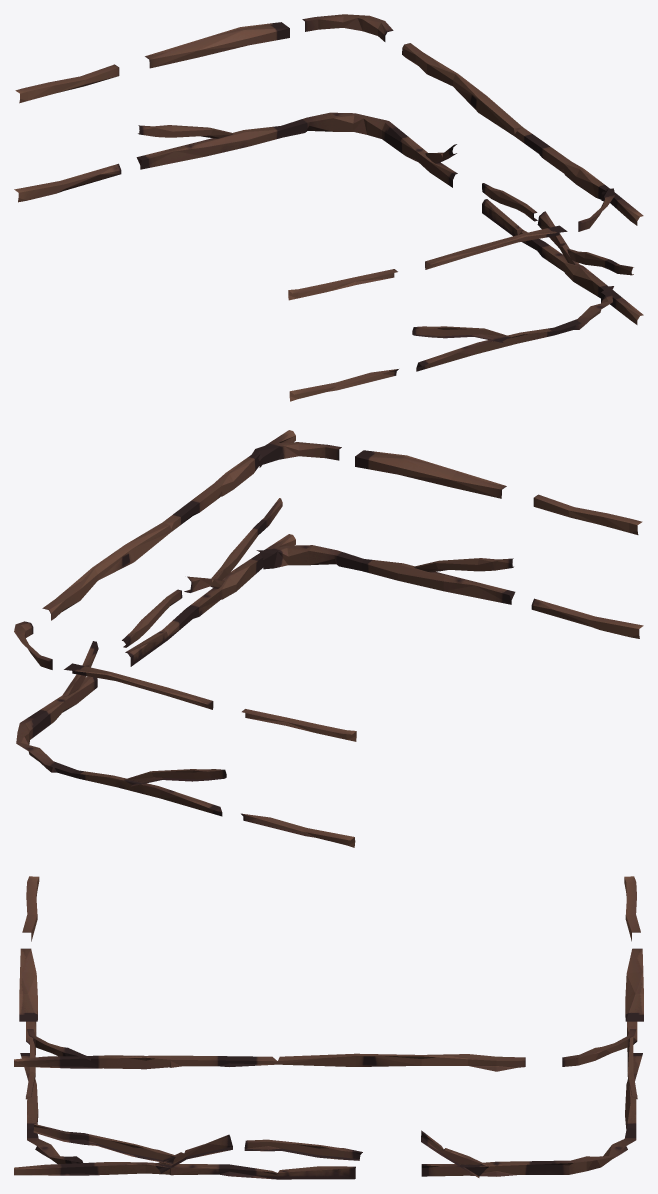
File: Wood_01.FBX
3 renders of one model, top to bottom at view 1: azimuth 30°, elevation 25°; view 2: azimuth 150°, elevation 25°; view 3: azimuth 270°, elevation 25°, orthographic. The views are drawn at different scales.
Visible parts, largest first — view 1: Wood_01; view 2: Wood_01; view 3: Wood_01.
Boxes of the visible parts, x1,y1,x2,y2 form: Wood_01: (14,14,643,401); Wood_01: (14,430,643,847); Wood_01: (14,876,643,1179).
Size of the model in its own units: 17.48 by 5.63 by 25.3.
